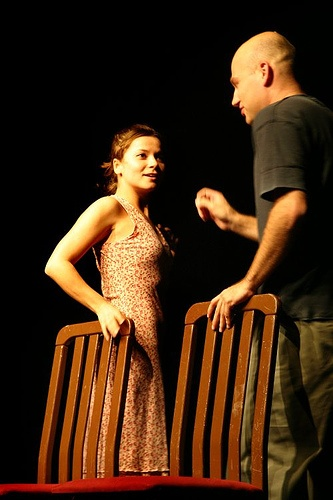head: (228, 33, 302, 124), (99, 122, 171, 202)
person: (183, 27, 333, 485), (42, 118, 178, 481)
